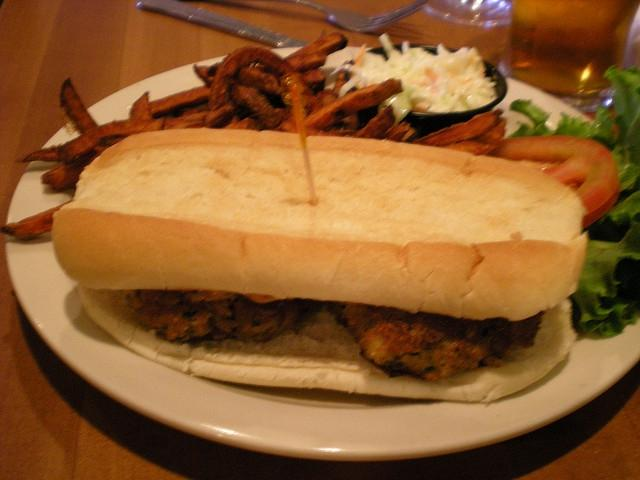lettuce: (543, 102, 621, 152), (603, 65, 640, 165)
tomato: (484, 135, 620, 231)
